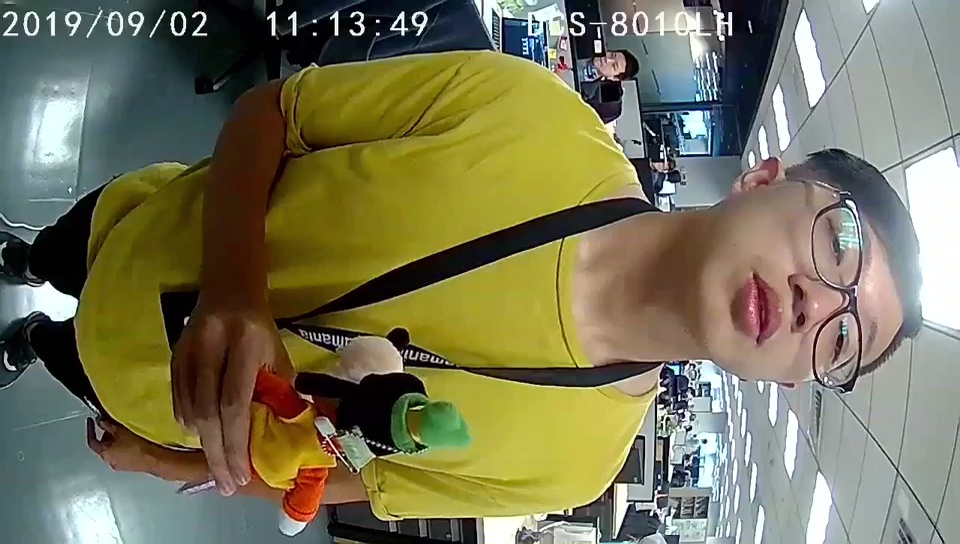goofy: (264, 362, 472, 534)
